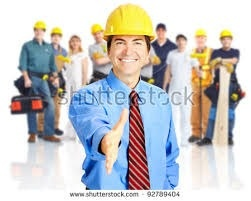helmet: (99, 1, 161, 45), (85, 22, 106, 33), (30, 18, 47, 31), (192, 25, 208, 38), (219, 28, 236, 40), (50, 26, 63, 36)
person with full safety: (88, 3, 180, 187)
person with partial safety: (22, 19, 56, 142), (213, 28, 243, 139), (189, 26, 214, 136), (87, 22, 109, 70), (50, 25, 68, 73)
person without safety: (167, 34, 192, 135), (66, 33, 89, 82), (154, 21, 171, 87)
